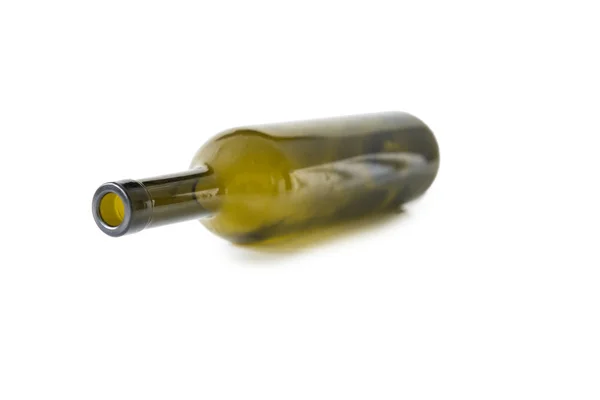glass_bottle: (73, 98, 459, 261)
